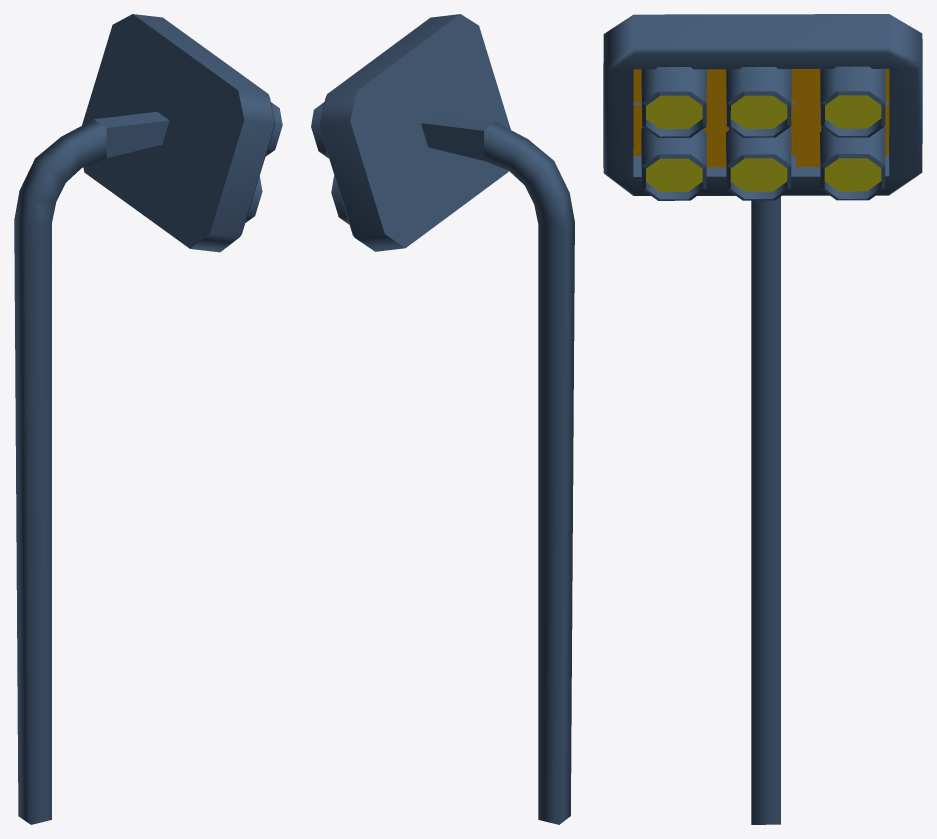
Rendered from SM_Stadium_Light.fbx.
The picture shows the model from 3 angles, left to right: view 1: azimuth 30°, elevation 25°; view 2: azimuth 150°, elevation 25°; view 3: azimuth 270°, elevation 25°; orthographic projection. The views are drawn at different scales.
Visible parts, largest first — view 1: SM_Stadium_Light; view 2: SM_Stadium_Light; view 3: SM_Stadium_Light.
Part boxes in pixels (box(x1,y1,x2,y2)): SM_Stadium_Light: box(14, 14, 282, 824); SM_Stadium_Light: box(311, 14, 574, 824); SM_Stadium_Light: box(603, 14, 922, 824).
Bounding box in the file's own units: 1521 × 4927 × 1598.
